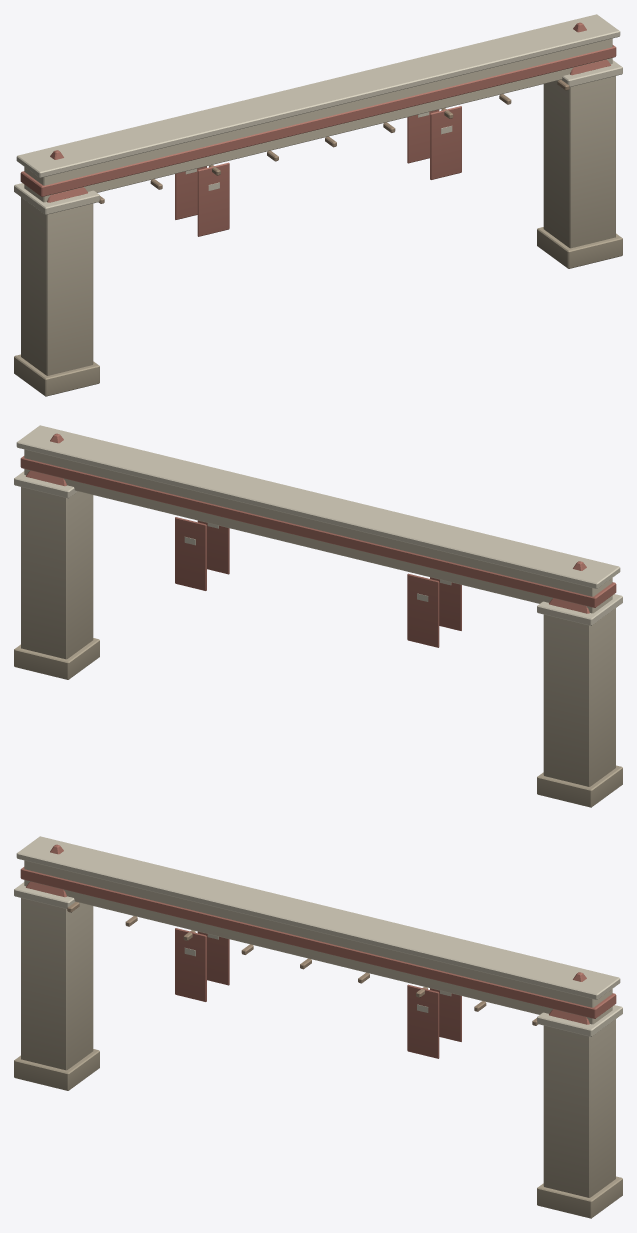
File: iv_gate.glb
The picture shows the model from 3 angles, top to bottom: view 1: azimuth 30°, elevation 25°; view 2: azimuth 150°, elevation 25°; view 3: azimuth 330°, elevation 25°; orthographic projection.
Parts seen in each view (by area): view 1: iv_gate; view 2: iv_gate; view 3: iv_gate.
Part boxes in pixels (x1=…): iv_gate: x1=14, y1=14, x2=622, y2=396; iv_gate: x1=14, y1=425, x2=622, y2=807; iv_gate: x1=14, y1=836, x2=622, y2=1218.
Bounding box in the file's own units: 20 × 7.5 × 1.95.
